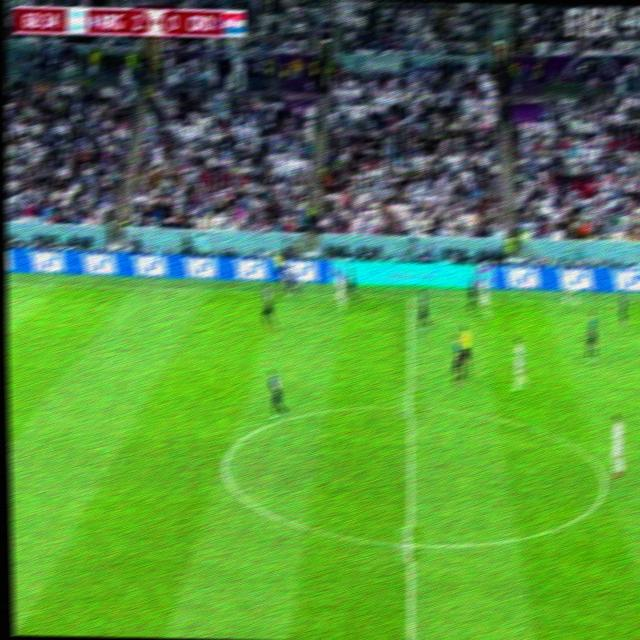halfcircle_bottom: (394, 526, 424, 562)
halfcircle_top: (394, 391, 425, 421)
midline_top_intersection: (400, 288, 419, 306)
